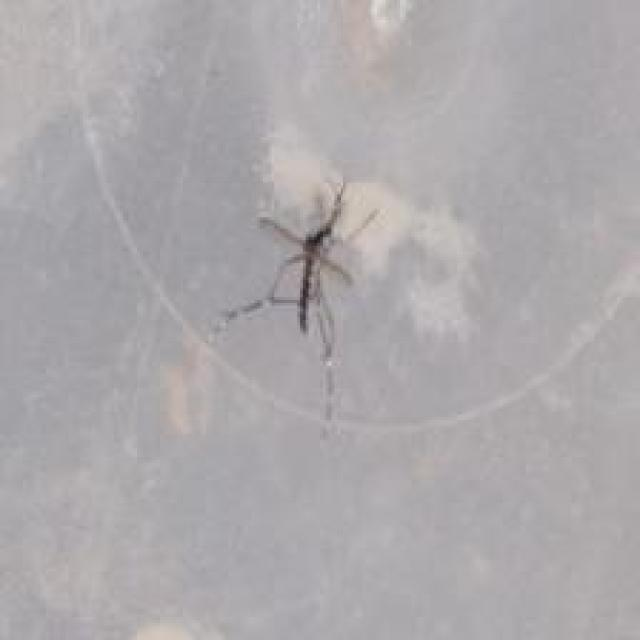Aedes albopictus: (211, 176, 383, 427)
